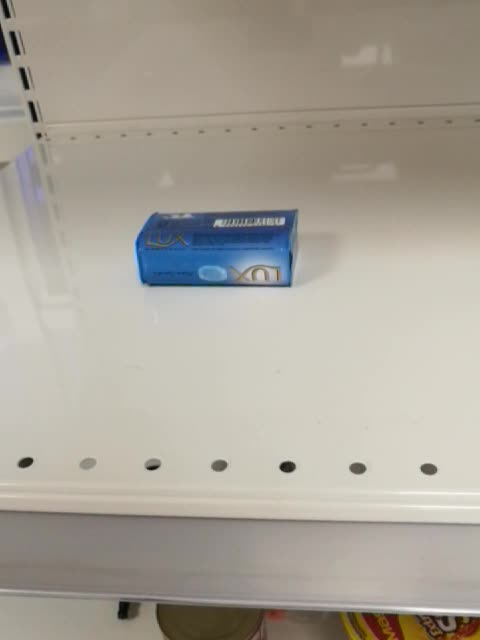soap: (133, 206, 299, 289)
